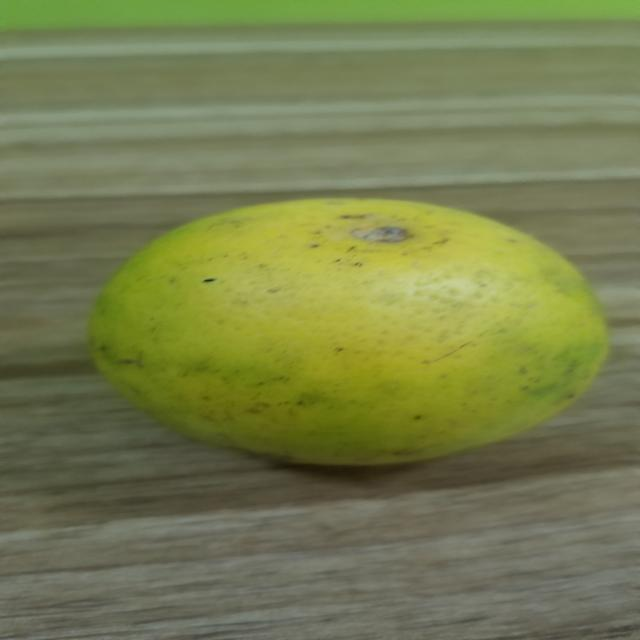Ripe orange: (75, 194, 621, 476)
